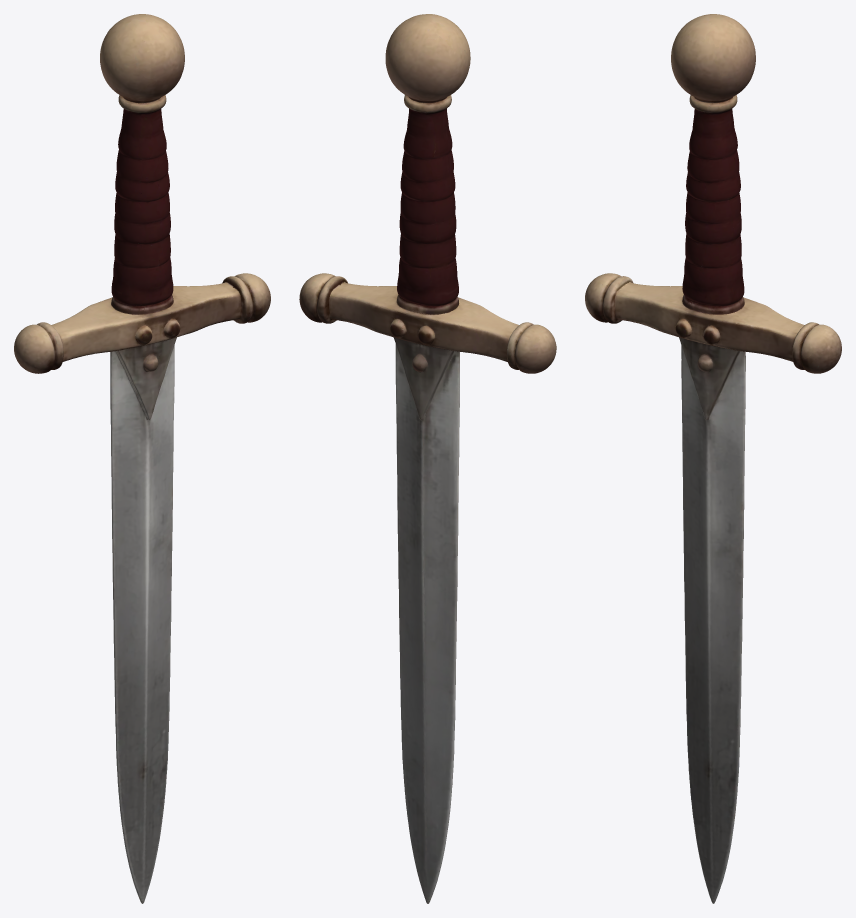
Rendered from longsword.glb.
The picture shows the model from 3 angles, left to right: view 1: azimuth 30°, elevation 25°; view 2: azimuth 150°, elevation 25°; view 3: azimuth 330°, elevation 25°; orthographic projection.
Visible parts, largest first — view 1: world; view 2: world; view 3: world.
Part boxes in pixels (bbox=[...]): world: bbox=[14, 14, 270, 903]; world: bbox=[299, 14, 556, 903]; world: bbox=[585, 14, 841, 903].
Size of the model in its own units: 0.2955 by 1 by 0.087.
1 material, 1 textured.
